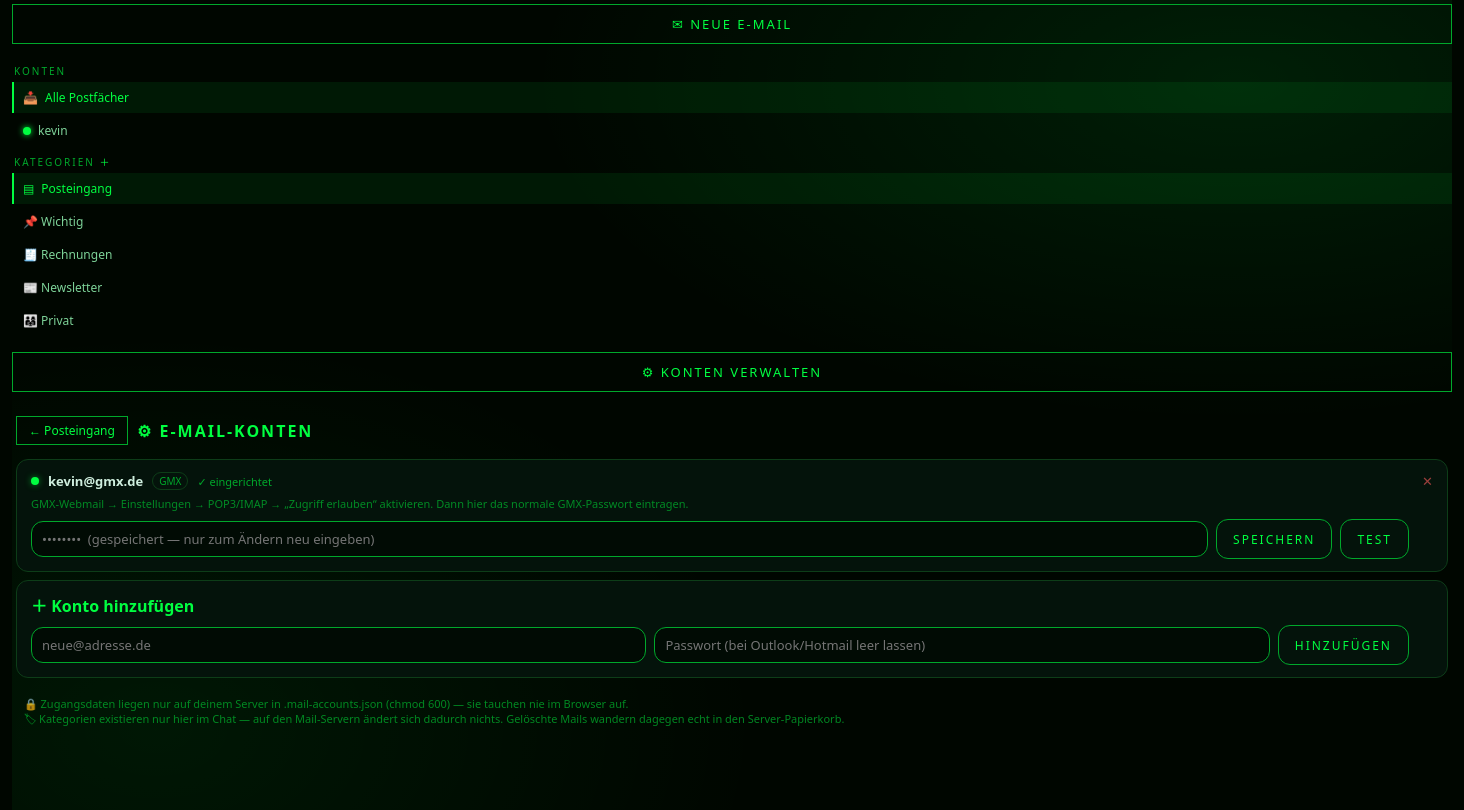
Einrichtung › /mail/accounts ist direkt erreichbar (Link aus den Einstellungen)
Expected: the text "✓ eingerichtet" is shown, [197, 474, 272, 488]
Type "geheim" into the password field named "kevin@gmx.de".
click(620, 539); type("geheim")  # box [31, 521, 1208, 557]
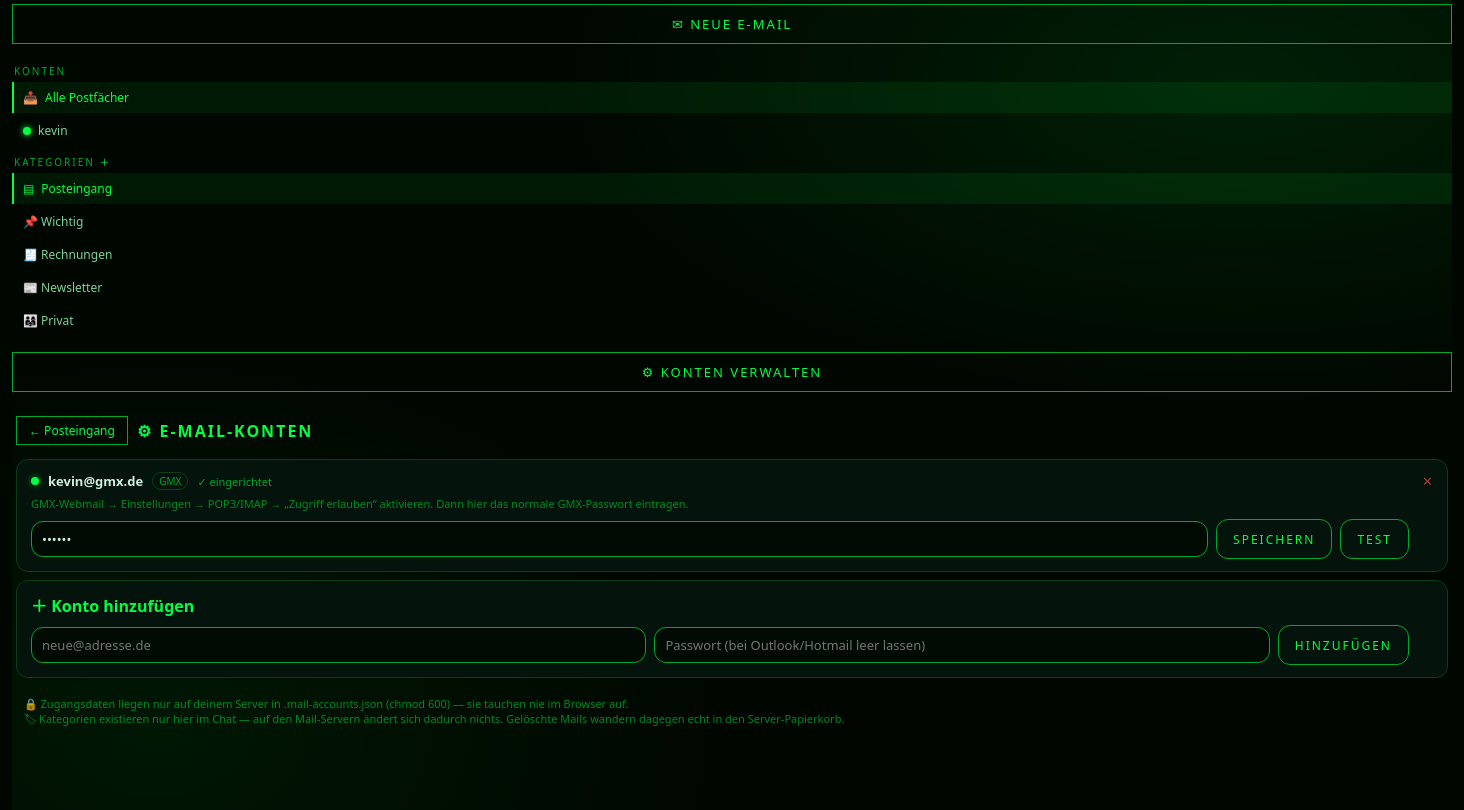
Click the button "SPEICHERN".
click(1274, 539)  # box [1216, 519, 1332, 559]
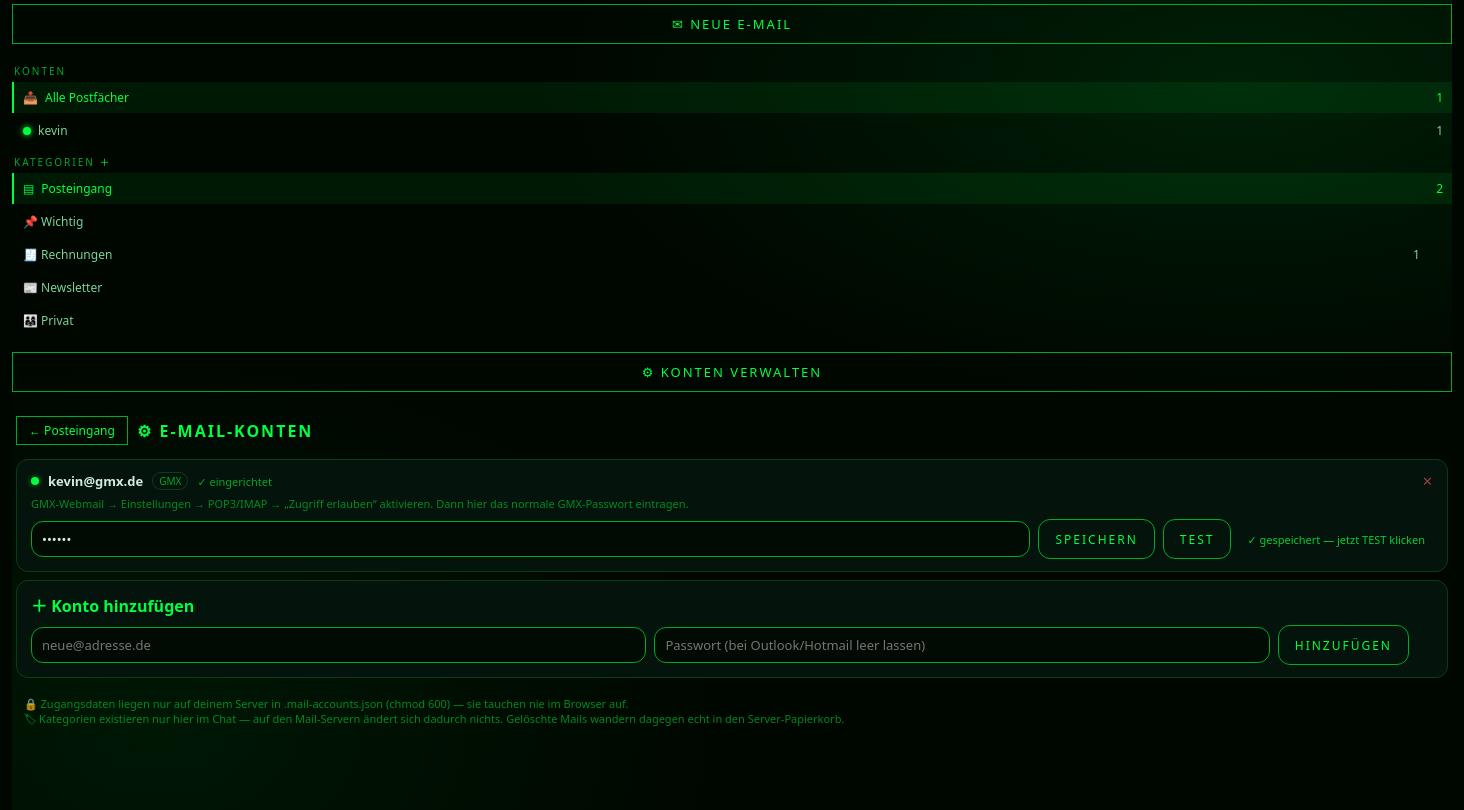
Expected: the text "✓ gespeichert — jetzt TEST klicken" is shown, [1247, 532, 1425, 546]
Click the button "TEST".
click(1197, 539)  # box [1163, 519, 1231, 559]
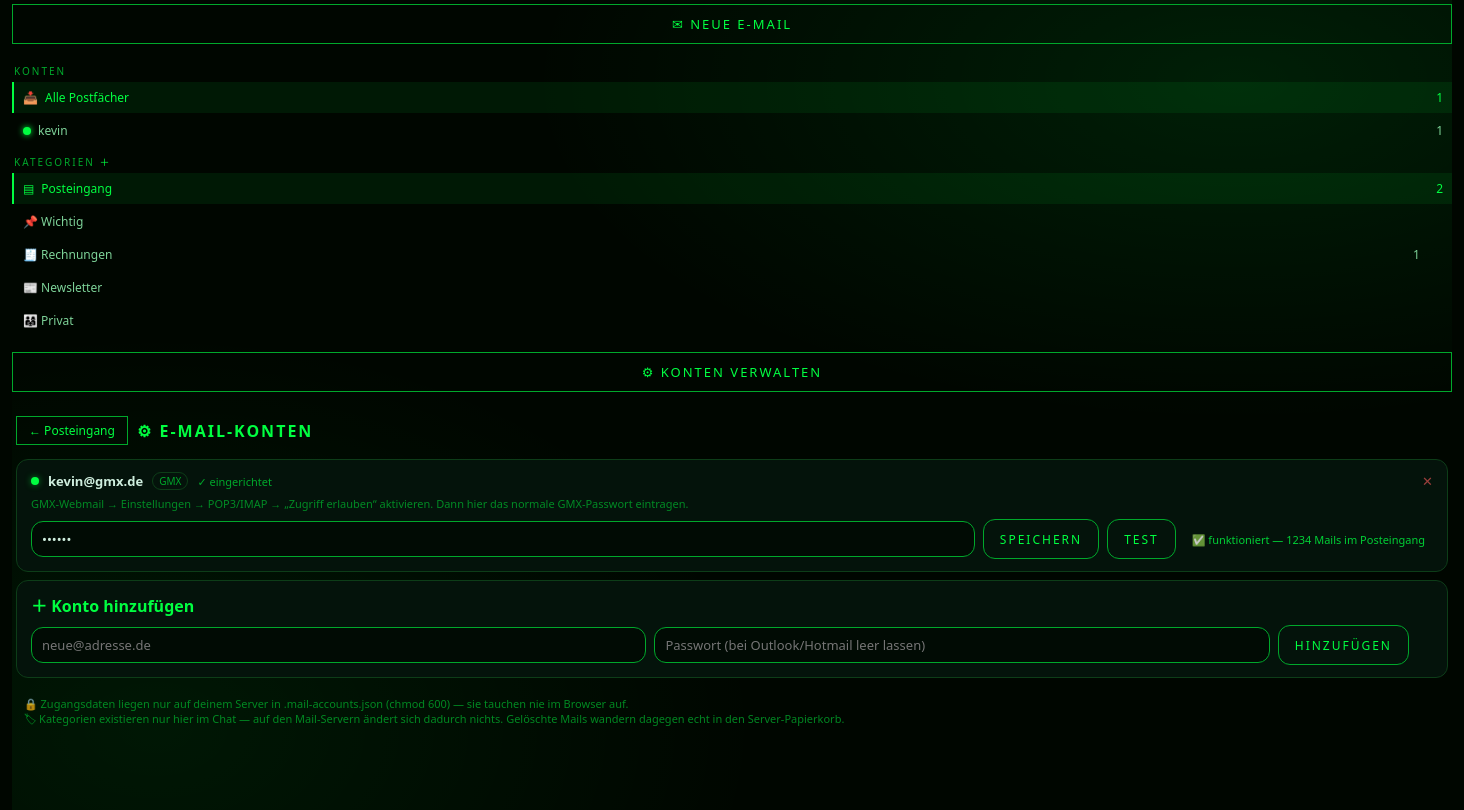
Expected: the text "✅ funktioniert — 1234 Mails im Posteingang" is shown, [1192, 532, 1425, 546]
